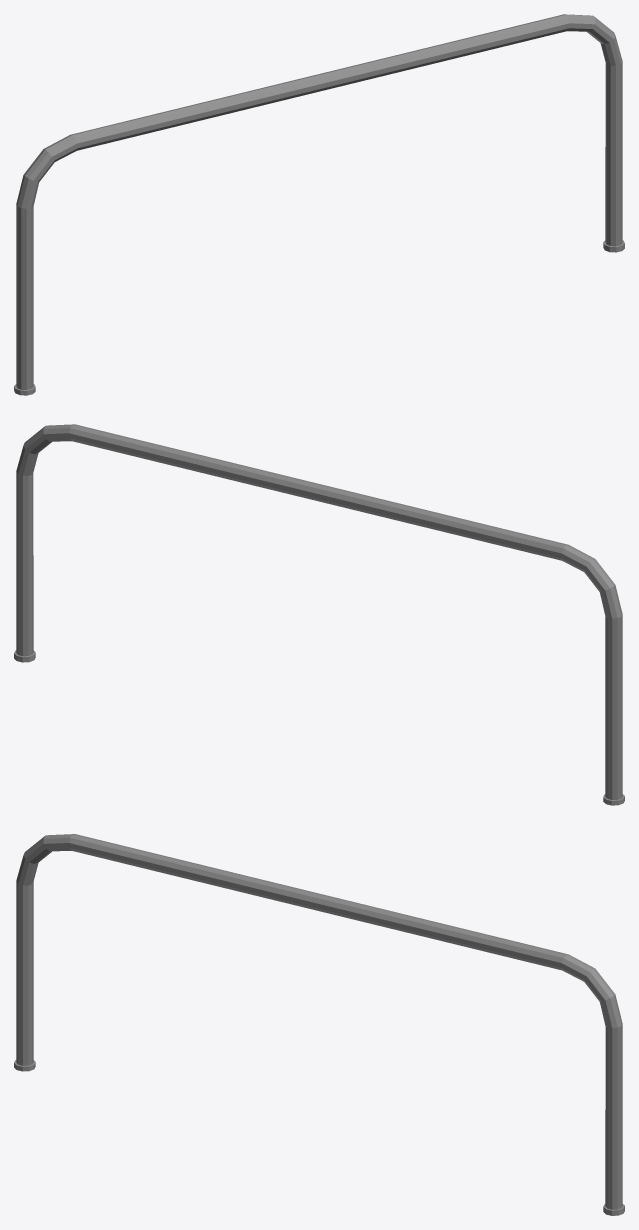
The model's file is Guard_rail_road_rail_stand_003.fbx.
The picture shows the model from 3 angles, top to bottom: view 1: azimuth 30°, elevation 25°; view 2: azimuth 150°, elevation 25°; view 3: azimuth 330°, elevation 25°; orthographic projection.
Parts seen in each view (by area): view 1: Guard rail road rail stand.003; view 2: Guard rail road rail stand.003; view 3: Guard rail road rail stand.003.
Part boxes in pixels (x1,y1,x2,y2): Guard rail road rail stand.003: [14, 14, 624, 395]; Guard rail road rail stand.003: [14, 424, 624, 805]; Guard rail road rail stand.003: [14, 834, 624, 1215].
Size of the model in its own units: 483 by 186 by 14.34.
